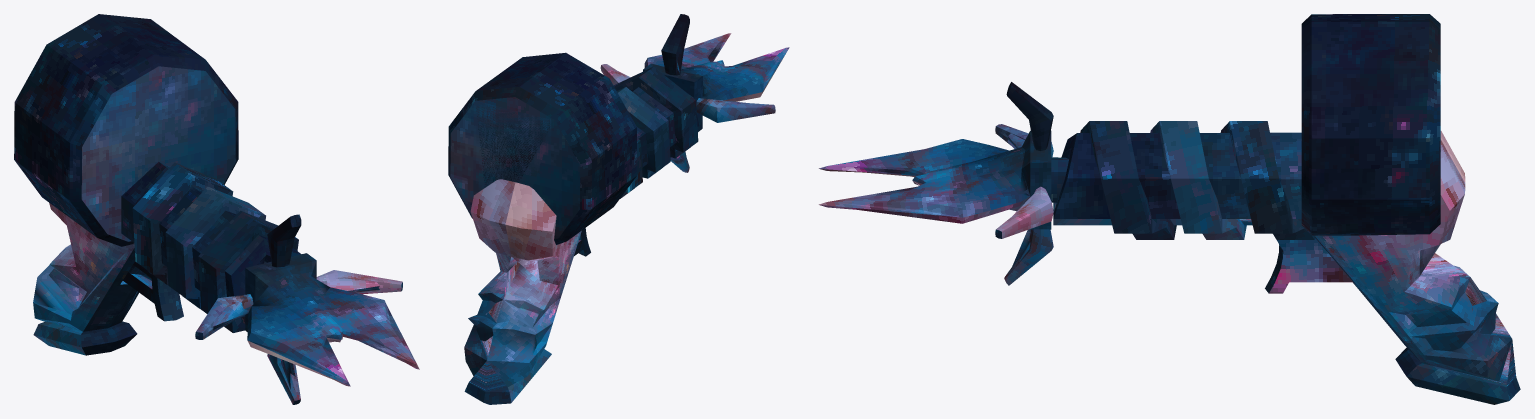
Rendered from item_hookshot_galaxy.glb.
3 views of the same model, side by side, from view 1: azimuth 30°, elevation 25°; view 2: azimuth 150°, elevation 25°; view 3: azimuth 270°, elevation 25° (orthographic). The views are drawn at different scales.
Parts seen in each view (by area): view 1: hookshot, hook; view 2: hookshot, hook; view 3: hookshot, hook.
Boxes of the visible parts, <box> form: hookshot: <box>14,14,301,355</box>; hook: <box>195,214,419,404</box>; hookshot: <box>448,52,699,404</box>; hook: <box>600,14,789,172</box>; hookshot: <box>1053,14,1520,404</box>; hook: <box>819,82,1069,285</box>.
Size of the model in its own units: 0.1893 by 0.3062 by 0.5189.
Materials: 2 (2 with a texture image).
